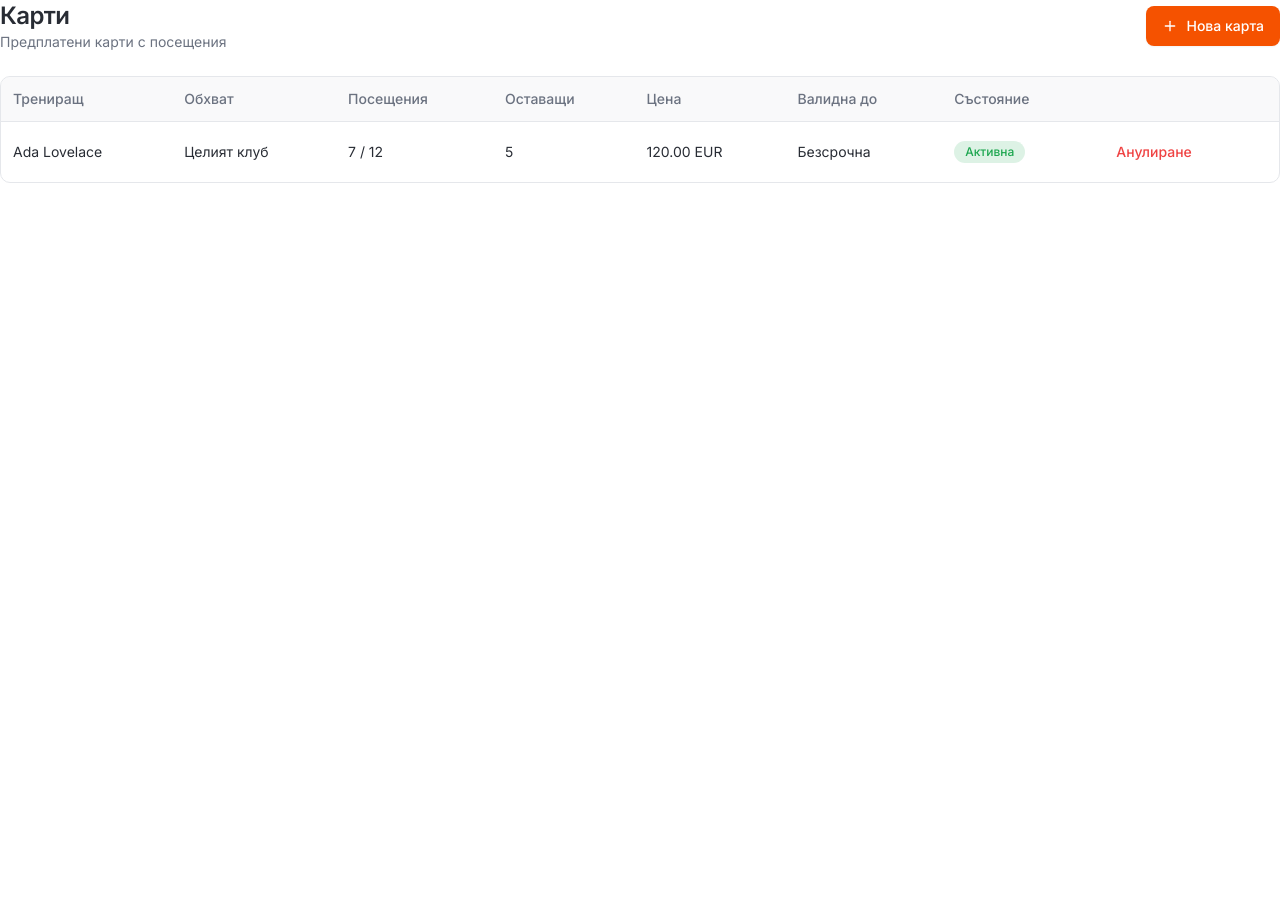
it: CardsPage — cancel with prorated refund (TKT-0115) › shows the translated over-refund reason and does not cancel the card
The image size is (1280, 900).
Check: the text "Ada Lovelace" is shown, box [1,122,172,182]
Click the button "Анулиране".
click(1154, 152)  # box [1104,134,1204,170]
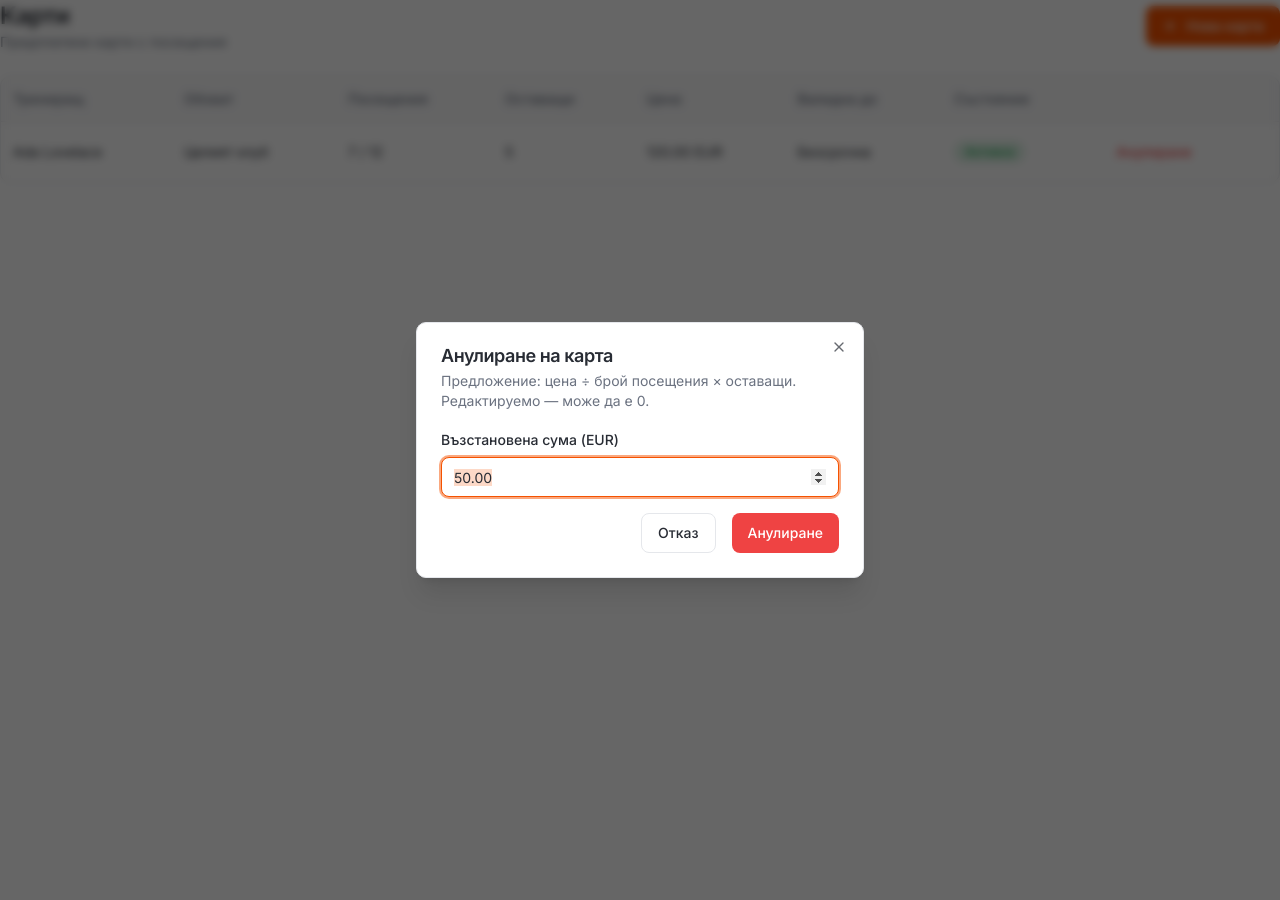
Click the button "Анулиране".
click(785, 533)  # box [732,513,839,553]
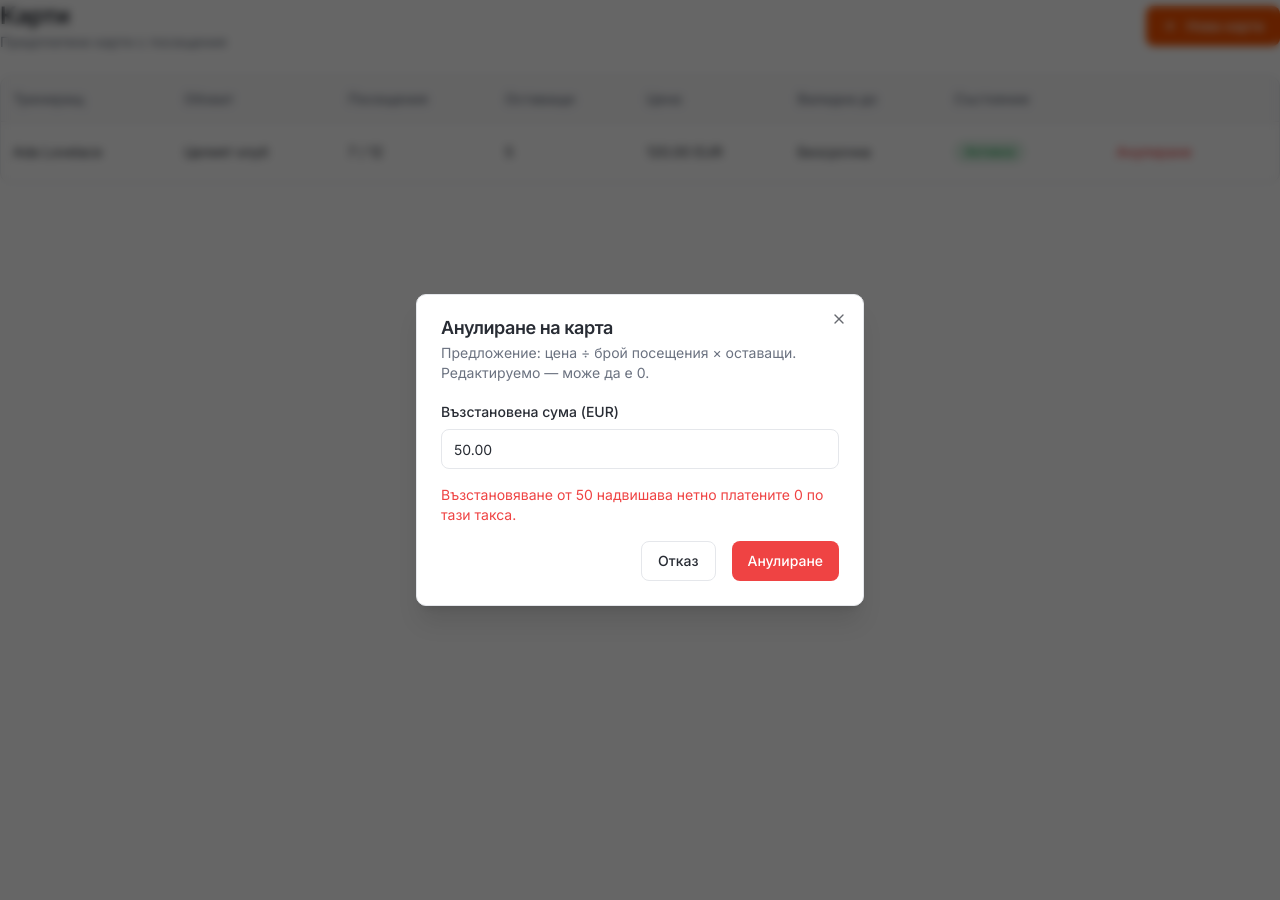
Check: the text "надвишава нетно платените 0" is shown, box [441,486,823,523]
